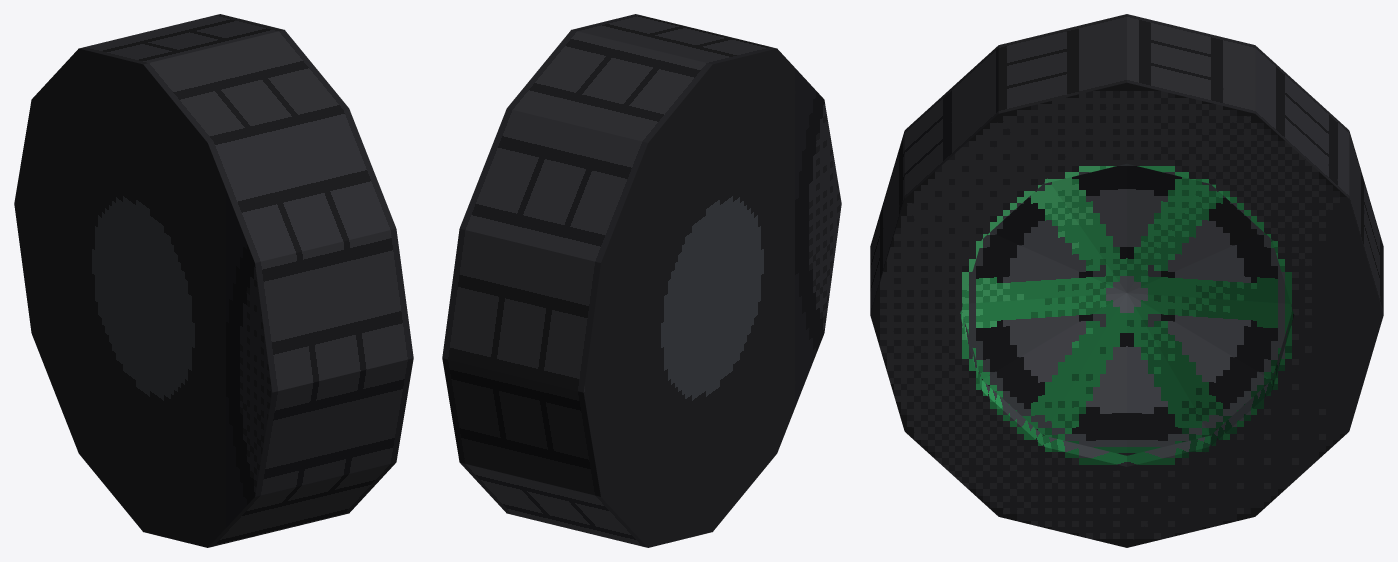
The model's file is wheel_six.glb.
3 renders of one model, left to right at view 1: azimuth 30°, elevation 25°; view 2: azimuth 150°, elevation 25°; view 3: azimuth 270°, elevation 25°, orthographic.
Visible parts, largest first — view 1: wheel_six; view 2: wheel_six; view 3: wheel_six.
Part boxes in pixels (x1,y1,x2,y2): wheel_six: (14, 14, 413, 547); wheel_six: (442, 14, 841, 547); wheel_six: (870, 14, 1383, 547).
Size of the model in its own units: 0.185 by 0.5845 by 0.5845.
Materials: 1 (1 with a texture image).
